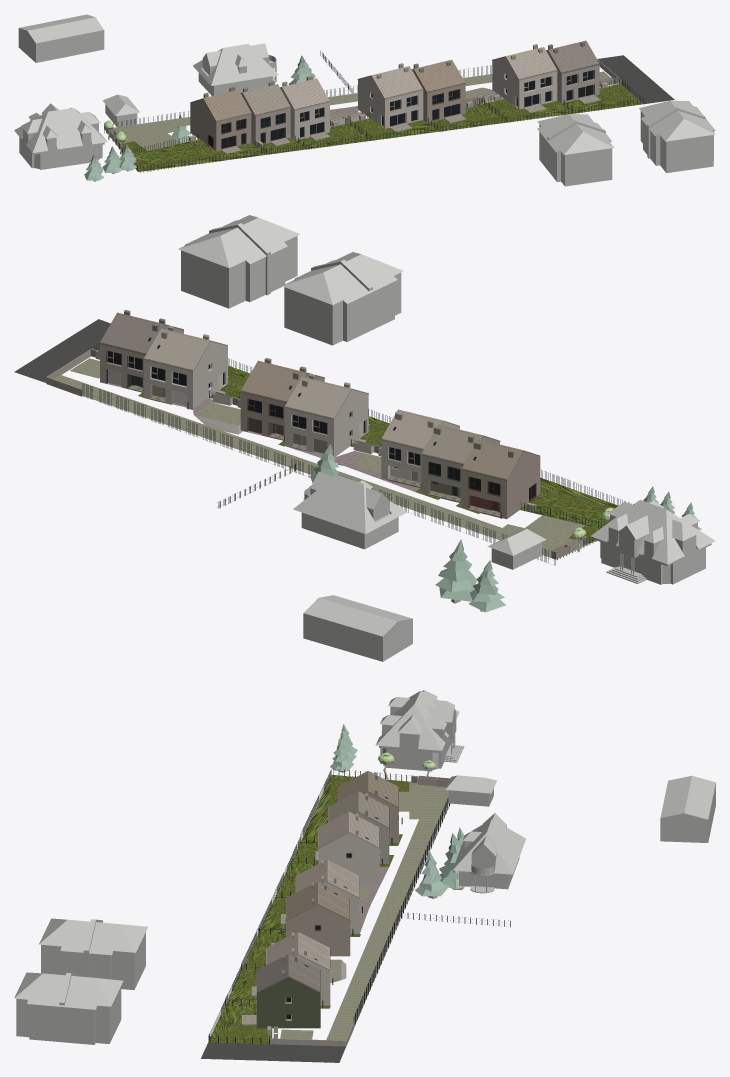
Rendered from bor2-zewnetrze-v8.glb.
The picture shows the model from 3 angles, top to bottom: view 1: azimuth 30°, elevation 25°; view 2: azimuth 150°, elevation 25°; view 3: azimuth 270°, elevation 25°; orthographic projection. The views are drawn at different scales.
Parts seen in each view (by area): view 1: ZIEMIA, KONTEKST_8, OGRODZENIA, KONTEKST_4, KONTEKST_2, DOM_D, DOM_B, KONTEKST_6, KONTEKST_5, DOM_G, DOM_C, DOM_A (+7 smaller); view 2: ZIEMIA, KONTEKST_8, OGRODZENIA, KONTEKST_3, KONTEKST_1, KONTEKST_6, DOM_B, DOM_D, KONTEKST_5, DOM_G, ZIELEN, DOM_C (+6 smaller); view 3: ZIEMIA, KONTEKST_8, DOM_A, OGRODZENIA, KONTEKST_6, KONTEKST_3, DOM_C, KONTEKST_1, DOM_E, KONTEKST_5, KONTEKST_4, ZIELEN (+6 smaller).
Part boxes in pixels (x1,y1,x2,y2): ZIEMIA: (113, 55, 674, 171); KONTEKST_8: (14, 103, 107, 169); OGRODZENIA: (104, 51, 644, 172); KONTEKST_4: (648, 107, 715, 173); KONTEKST_2: (547, 121, 613, 186); DOM_D: (357, 63, 423, 128); DOM_B: (492, 44, 557, 109); KONTEKST_6: (193, 43, 278, 95); KONTEKST_5: (18, 14, 104, 62); DOM_G: (190, 86, 251, 150); DOM_C: (412, 59, 465, 122); DOM_A: (546, 40, 599, 103); ZIEMIA: (14, 319, 618, 558); KONTEKST_8: (590, 500, 715, 584); OGRODZENIA: (46, 343, 633, 565); KONTEKST_3: (178, 224, 268, 308); KONTEKST_1: (282, 260, 371, 345); KONTEKST_6: (293, 471, 407, 549); DOM_B: (143, 325, 227, 409); DOM_D: (284, 374, 368, 457); KONTEKST_5: (303, 595, 412, 661); DOM_G: (461, 439, 540, 519); ZIELEN: (309, 443, 701, 612); DOM_C: (240, 358, 324, 440); ZIEMIA: (201, 775, 448, 1062); KONTEKST_8: (375, 690, 464, 771); DOM_A: (256, 954, 320, 1028); OGRODZENIA: (208, 768, 510, 1046); KONTEKST_6: (452, 813, 525, 893); KONTEKST_3: (61, 973, 123, 1044); DOM_C: (285, 882, 350, 956); KONTEKST_1: (86, 919, 147, 989); DOM_E: (318, 811, 379, 884); KONTEKST_5: (660, 775, 715, 842); KONTEKST_4: (14, 972, 68, 1042); ZIELEN: (330, 724, 465, 898).
Size of the model in its own units: 121 by 19.43 by 110.
57 materials, 5 textured.
